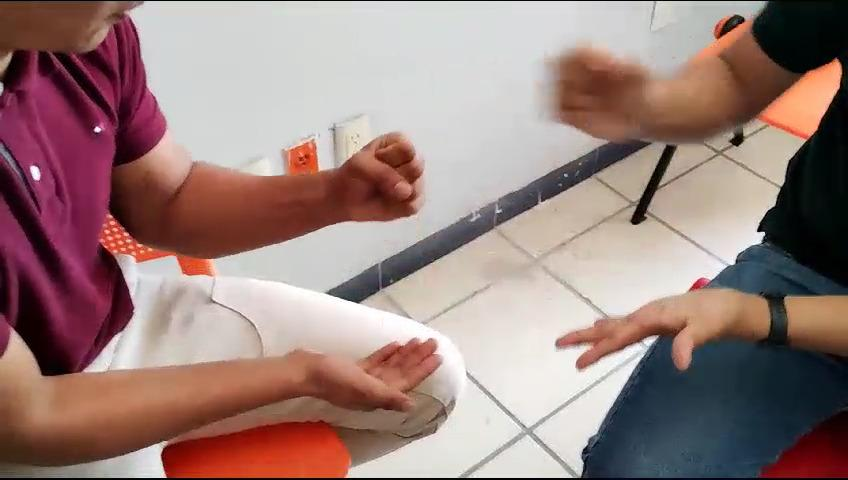Stone: (319, 122, 441, 239)
